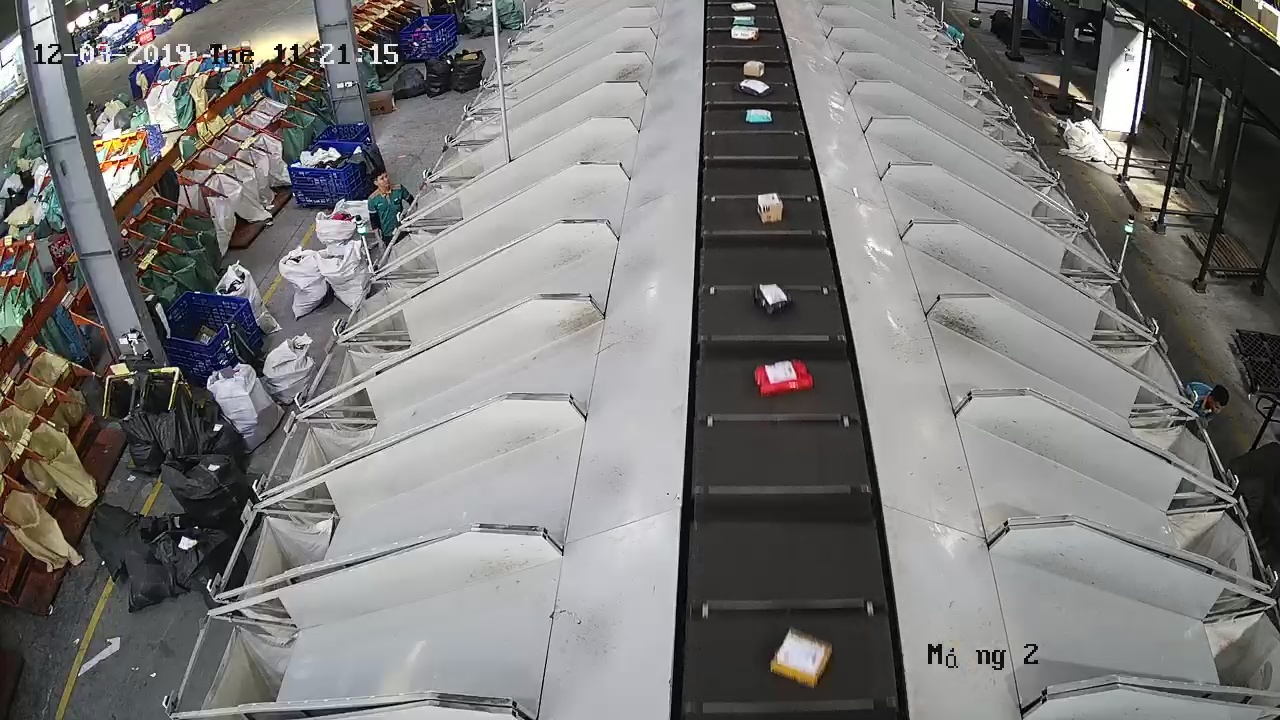parcel: (767, 625, 835, 691), (752, 357, 816, 400), (748, 281, 793, 317), (755, 192, 785, 225), (744, 107, 775, 125)
